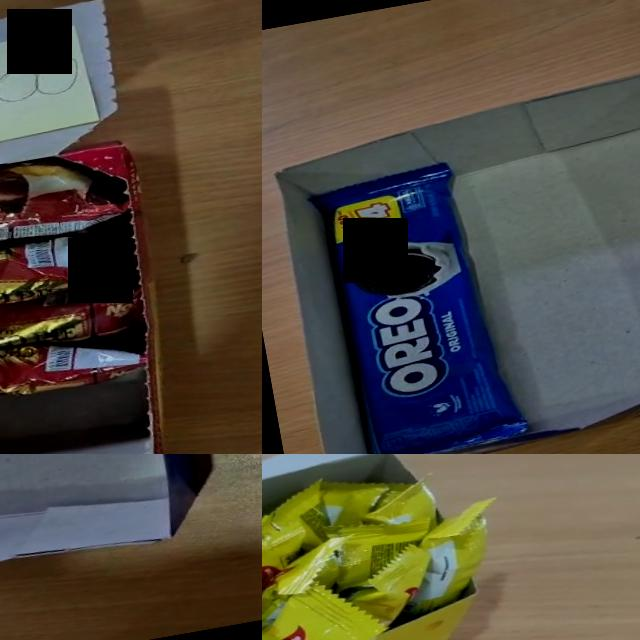Ahh: (404, 498, 493, 616), (262, 538, 343, 631), (345, 545, 428, 626), (262, 584, 382, 640), (339, 521, 428, 588), (262, 480, 326, 544), (320, 481, 386, 532), (364, 481, 433, 524), (262, 529, 300, 583)
Chocopie: (0, 144, 134, 263), (0, 264, 150, 366), (0, 224, 139, 324), (0, 324, 150, 413)
Oreo: (307, 156, 529, 454)
